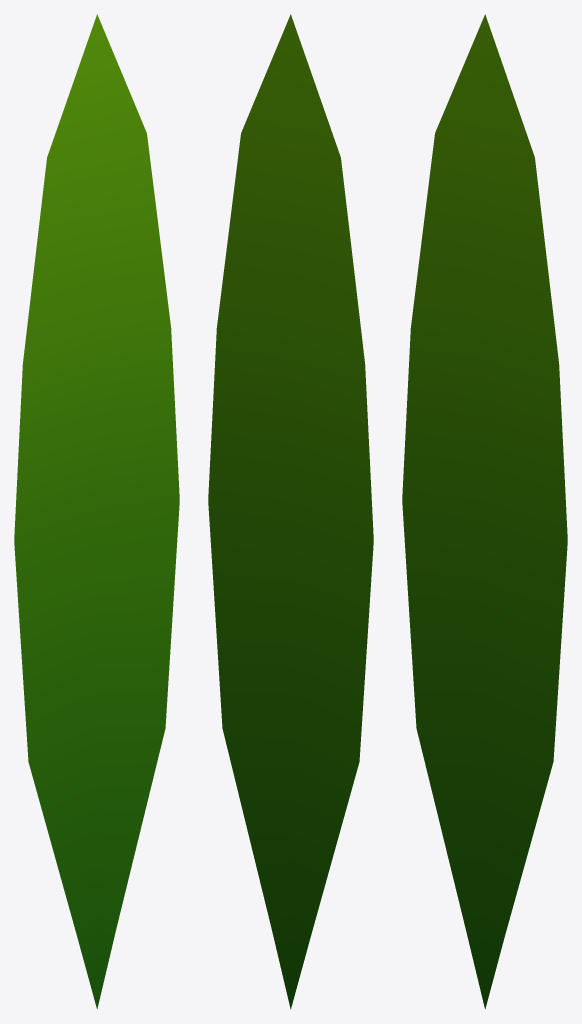
File: grass_1.glb
3 views of the same model, side by side, from view 1: azimuth 30°, elevation 25°; view 2: azimuth 150°, elevation 25°; view 3: azimuth 330°, elevation 25° (orthographic).
Visible parts, largest first — view 1: grass_1; view 2: grass_1; view 3: grass_1.
Part boxes in pixels (x1=…): grass_1: x1=14, y1=14, x2=179, y2=1009; grass_1: x1=208, y1=14, x2=373, y2=1009; grass_1: x1=402, y1=14, x2=567, y2=1009.
Size of the model in its own units: 0.0796 by 0.4573 by 0.
1 material, 1 textured.
